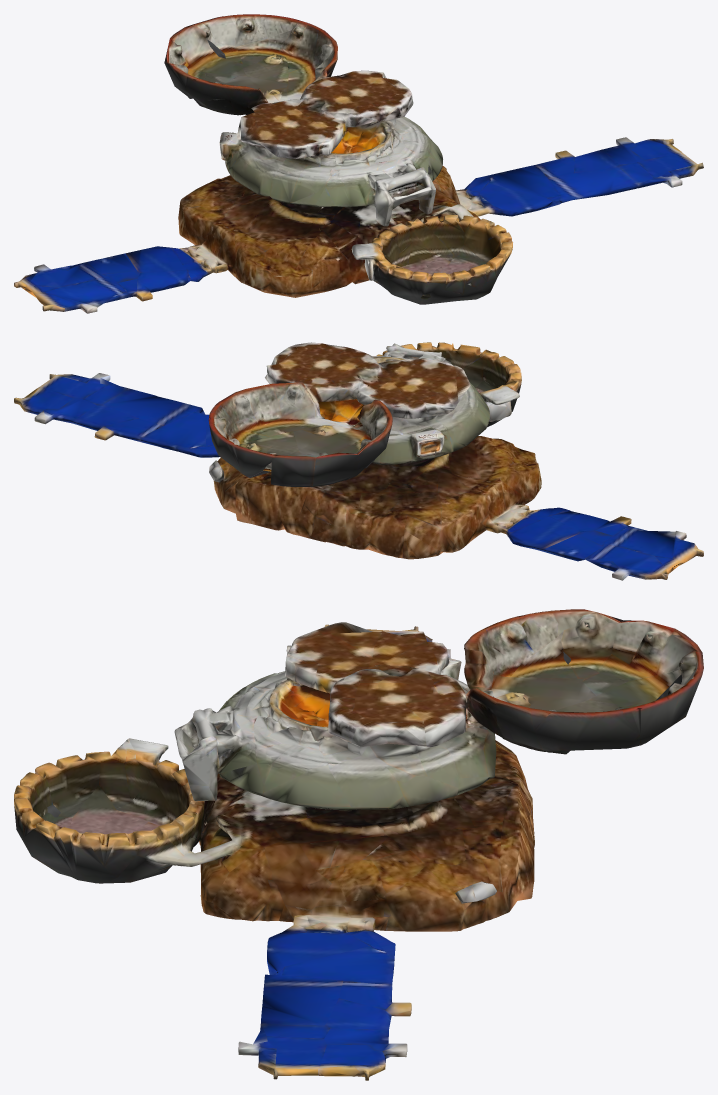
File: genesis-low.glb
3 views of the same model, one above another, from view 1: azimuth 30°, elevation 25°; view 2: azimuth 150°, elevation 25°; view 3: azimuth 270°, elevation 25° (orthographic). The views are drawn at different scales.
Size of the model in its own units: 1.9 by 0.3604 by 1.23.
1 material, 1 textured.
